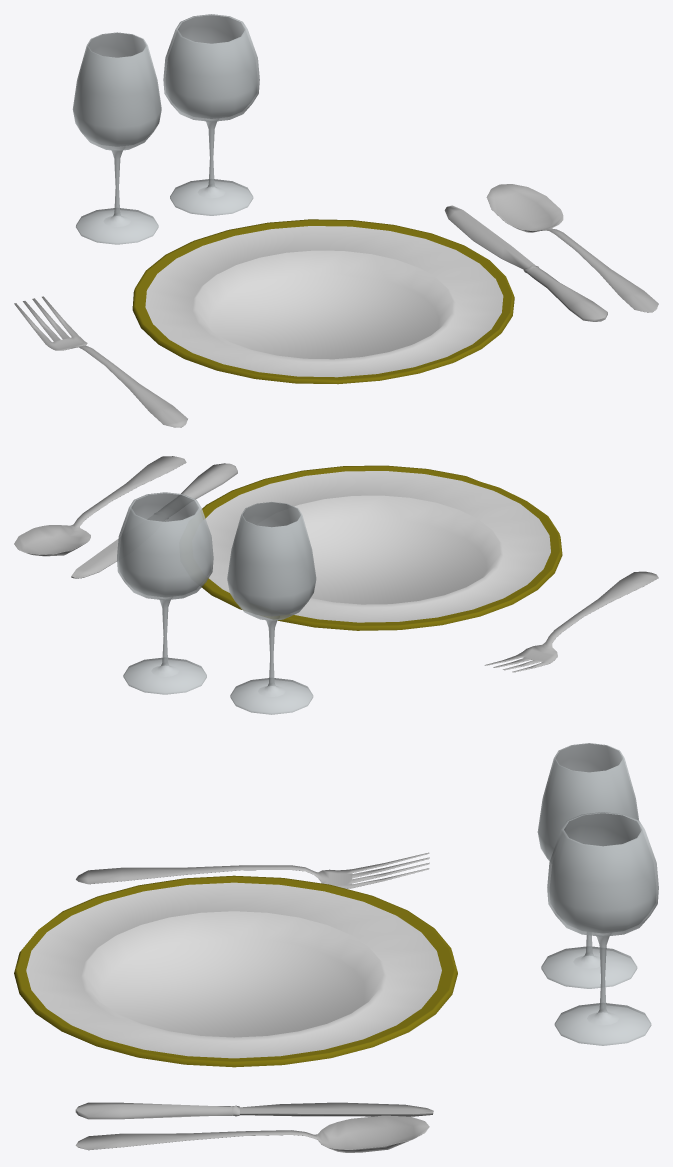
File: fit-place-setting.glb
The picture shows the model from 3 angles, top to bottom: view 1: azimuth 30°, elevation 25°; view 2: azimuth 150°, elevation 25°; view 3: azimuth 270°, elevation 25°; orthographic projection. The views are drawn at different scales.
Bounding box in the file's own units: 41.67 × 14.06 × 38.99.
